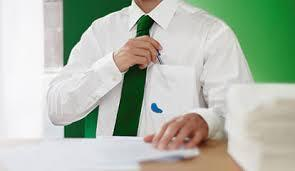ink: (150, 102, 162, 113)
